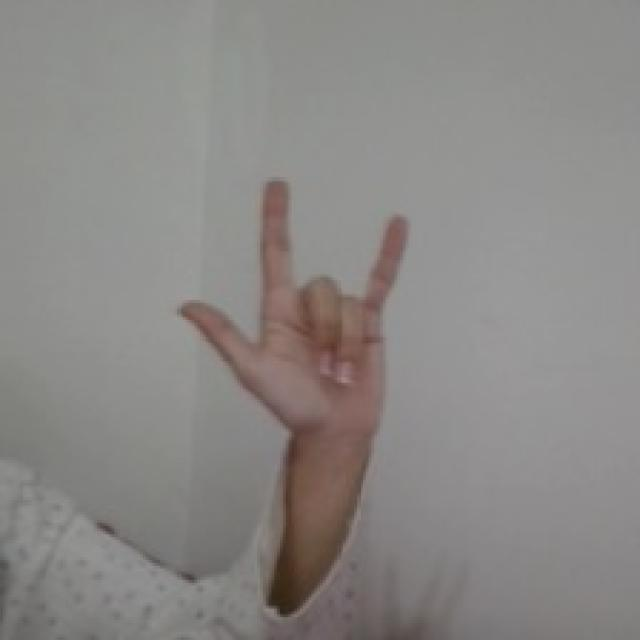love: (171, 172, 416, 444)
